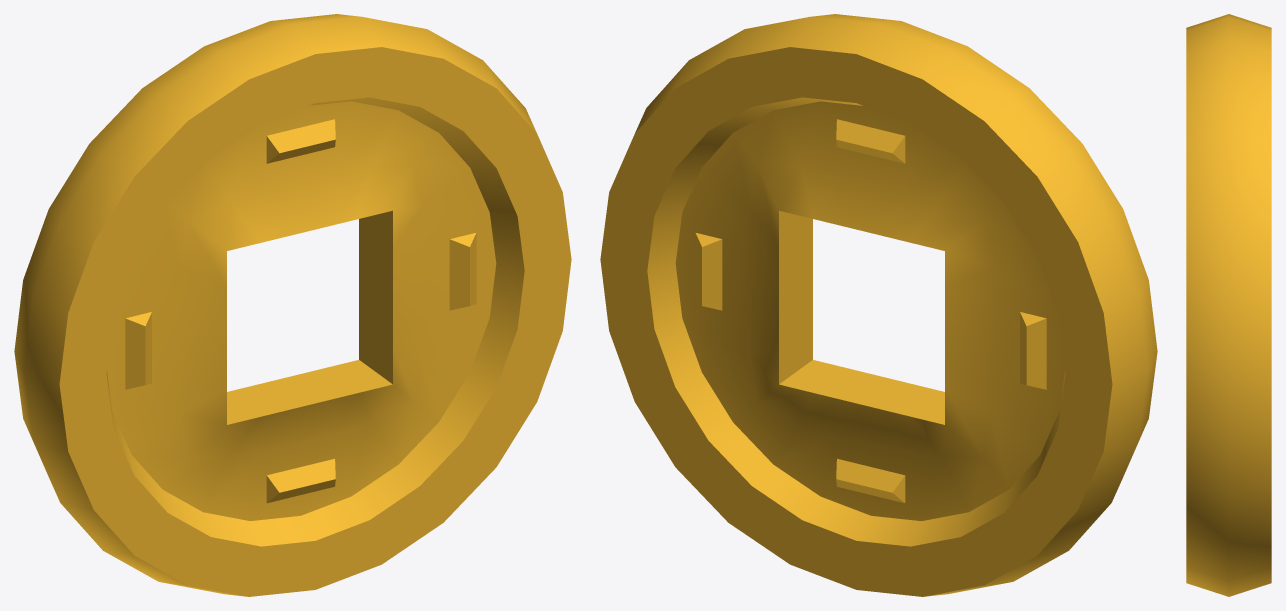
The model's file is coin.glb.
3 renders of one model, left to right at view 1: azimuth 30°, elevation 25°; view 2: azimuth 150°, elevation 25°; view 3: azimuth 270°, elevation 25°, orthographic. The views are drawn at different scales.
Visible parts, largest first — view 1: coin; view 2: coin; view 3: coin.
Part boxes in pixels (x1,y1,x2,y2): coin: (14,14,571,596); coin: (600,14,1157,596); coin: (1186,14,1271,596).
Size of the model in its own units: 0.55 by 0.55 by 0.08.
